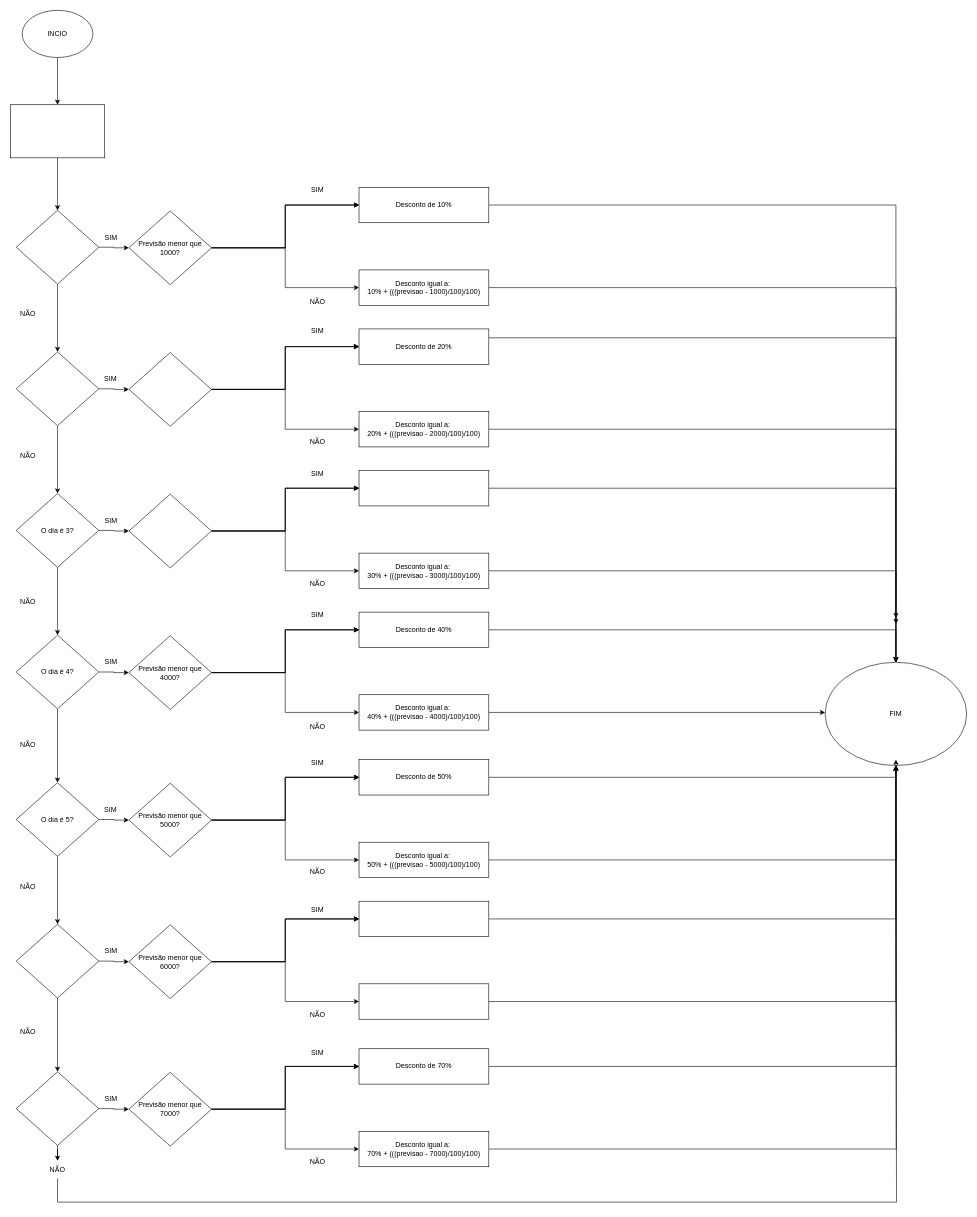
Image size: 977x1217. Some labels were removed from this diagram. The centre of each missing label's shape, as x and y in pixels:
Desconto de 30%: (x=423, y=488)
Desconto de 60%: (x=423, y=919)
Desconto igual a: 60% + (((previsao - 6000)/100)/100): (x=423, y=1001)
Leia o Dia Leia o Vvalor Leia Previsao de Pedidos Leia Walter Milhar: (x=57, y=131)
O dia é 1?: (x=57, y=247)
O dia é 2?: (x=57, y=388)
O dia é 6?: (x=57, y=961)
O dia é 7?: (x=57, y=1108)
Previsão menor que 2000?: (x=170, y=389)
Previsão menor que 3000?: (x=170, y=531)
